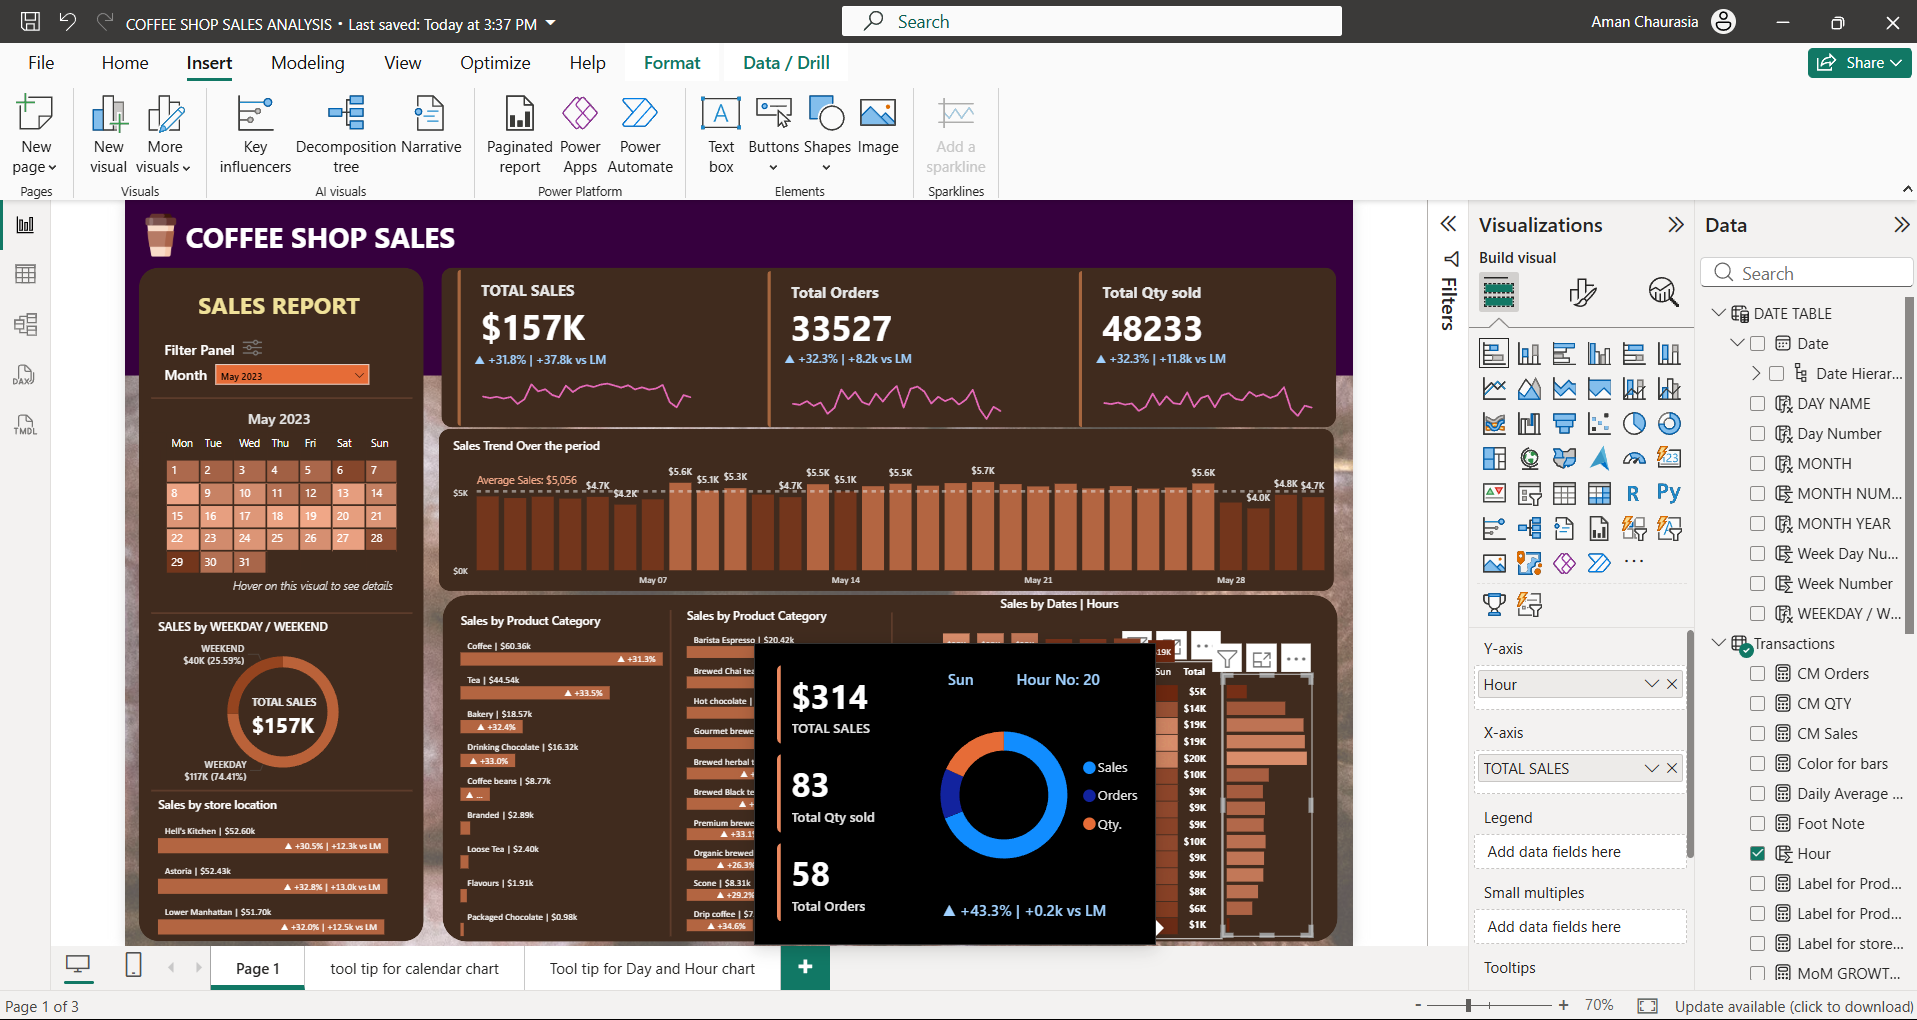

What the dashboard file says about the page in this screenshot:
{"tool":"powerbi","page":{"name":"Page 1","canvas":[1400,850],"ordinal":0},"visuals":[{"type":"shape","box":[0,0,1400.1,200],"z":0},{"type":"shape","box":[15.7,76.9,324.7,767.7],"z":1000},{"type":"shape","box":[360.3,76.9,1019.8,182.3],"z":2000},{"type":"textbox","box":[64.1,15.7,394.5,61.2],"z":3000},{"type":"cardVisual","fields":{"Data":["Transactions.TOTAL SALES"]},"box":[361.8,62.7,297.7,212.2],"z":4000,"group":"g1"},{"type":"cardVisual","fields":{"Data":["Transactions.Total Orders"]},"box":[715.7,64.1,297.7,212.2],"z":4000,"group":"g2"},{"type":"cardVisual","fields":{"Data":["Transactions.Total Qty sold"]},"box":[1069.6,64.1,297.7,212.2],"z":4000,"group":"g3"},{"type":"slicer","fields":{"Values":["DATE TABLE.MONTH YEAR"]},"box":[98.3,182.3,185.2,34.2],"z":4000},{"type":"cardVisual","fields":{"Data":["Transactions.TOTAL SALES"]},"box":[112.5,546.9,133.9,84],"z":5000},{"type":"group","id":"g1","title":"Group 1","box":[361.8,62.7,298,212.2],"z":6000},{"type":"lineChart","fields":{"Category":["DATE TABLE.Date.Variation.Date Hierarchy.Year","DATE TABLE.Date.Variation.Date Hierarchy.Quarter","DATE TABLE.Date.Variation.Date Hierarchy.Month","DATE TABLE.Date.Variation.Date Hierarchy.Day"],"Y":["Transactions.Total Orders"]},"box":[747,170.9,266.3,85.5],"z":6000,"group":"g2"},{"type":"lineChart","fields":{"Category":["DATE TABLE.Date.Variation.Date Hierarchy.Year","DATE TABLE.Date.Variation.Date Hierarchy.Quarter","DATE TABLE.Date.Variation.Date Hierarchy.Month","DATE TABLE.Date.Variation.Date Hierarchy.Day"],"Y":["Transactions.Total Qty sold"]},"box":[1100.9,170.9,266.3,85.5],"z":6000,"group":"g3"},{"type":"lineChart","fields":{"Category":["DATE TABLE.Date.Variation.Date Hierarchy.Year","DATE TABLE.Date.Variation.Date Hierarchy.Quarter","DATE TABLE.Date.Variation.Date Hierarchy.Month","DATE TABLE.Date.Variation.Date Hierarchy.Day"],"Y":["Transactions.TOTAL SALES"]},"box":[393.5,172.8,266.3,85.5],"z":6000,"group":"g1"},{"type":"group","id":"g2","title":"Group 1","box":[715.7,64.1,297.7,212.2],"z":7000},{"type":"group","id":"g3","title":"Group 1","box":[1069.6,64.1,297.7,212.2],"z":8000},{"type":"pivotTable","fields":{"Rows":["DATE TABLE.Week Number"],"Columns":["DATE TABLE.DAY NAME"],"Values":["Min(DATE TABLE.Day Number)"]},"box":[15.7,260.6,304.8,203.7],"z":9000},{"type":"cardVisual","fields":{"Data":["Min(DATE TABLE.MONTH YEAR)"]},"box":[111.2,218.8,131.2,56.2],"z":10000},{"type":"shape","box":[22.5,285,17.5,12.5],"z":11000},{"type":"cardVisual","fields":{"Data":["Transactions.Foot Note"]},"box":[94,411.6,267.8,52.7],"z":12000},{"type":"shape","box":[29.9,464.3,297.7,12.8],"z":13000},{"type":"shape","box":[29.9,219.3,297.7,12.8],"z":14000},{"type":"donutChart","title":"SALES by WEEKDAY / WEEKEND","fields":{"Category":["DATE TABLE.WEEKDAY / WEEKEND"],"Y":["Transactions.TOTAL SALES"]},"box":[32.8,477.1,294.8,195.1],"z":15000},{"type":"clusteredBarChart","title":"Sales by store location ","fields":{"Category":["Transactions.store_location"],"Y":["Transactions.Placeholder","Transactions.TOTAL SALES"]},"box":[32.8,679.4,297.7,165.2],"z":16000},{"type":"shape","box":[29.9,666.6,297.7,12.8],"z":17000},{"type":"shape","box":[357.5,261.2,1020,185],"z":18000},{"type":"shape","box":[361.2,450,1020,395],"z":19000},{"type":"columnChart","title":"Sales Trend Over the period","fields":{"Category":["Transactions.transaction_date"],"Y":["Transactions.TOTAL SALES"]},"box":[368.9,270.6,1007,179.5],"z":20000},{"type":"clusteredBarChart","title":"Sales by Product Category","fields":{"Y":["Transactions.Placeholder","Transactions.TOTAL SALES"],"Category":["Transactions.product_category"]},"box":[377.4,470,269.2,374.6],"z":21000},{"type":"shape","box":[615.3,467.2,12.8,371.7],"z":22000},{"type":"clusteredBarChart","title":"Sales by Product Category","fields":{"Y":["Transactions.Placeholder","Transactions.TOTAL SALES"],"Category":["Transactions.product_type"]},"box":[635.2,464.3,252.1,374.6],"z":23000},{"type":"shape","box":[867.4,470,12.8,371.7],"z":24000},{"type":"pivotTable","fields":{"Rows":["Transactions.Hour"],"Columns":["DATE TABLE.DAY NAME"],"Values":["Transactions.TOTAL SALES"]},"box":[880.2,525.6,370.3,316.2],"z":25000},{"type":"barChart","fields":{"Category":["Transactions.Hour"],"Y":["Transactions.TOTAL SALES"]},"box":[1250,540,103,299],"z":26000},{"type":"columnChart","title":"Sales by Dates | Hours","fields":{"Y":["Transactions.TOTAL SALES"],"Category":["DATE TABLE.DAY NAME"]},"box":[927.5,450,275,82.5],"z":27000},{"type":"textbox","box":[78.3,96.9,199.4,57],"z":28000},{"type":"textbox","box":[39.9,182.3,71.2,35.6],"z":29000},{"type":"textbox","box":[39.9,153.8,126.8,35.6],"z":30000},{"type":"image","box":[133.9,153.8,22.8,28.5],"z":30001},{"type":"image","box":[7.1,15.7,66.9,48.4],"z":30002}]}

Visuals, with their boxes on the page's 1400x850 design canvas (x1, y1, x2, y2). These are canvas units, not pixel positions in the 1917x1020 screenshot, which may show the page scaled, cropped or inside an application window:
shape: box=[0, 0, 1400, 200]
shape: box=[16, 77, 340, 845]
shape: box=[360, 77, 1380, 259]
textbox: box=[64, 16, 459, 77]
cardVisual - Transactions.TOTAL SALES: box=[362, 63, 660, 275]
cardVisual - Transactions.Total Orders: box=[716, 64, 1013, 276]
cardVisual - Transactions.Total Qty sold: box=[1070, 64, 1367, 276]
slicer - DATE TABLE.MONTH YEAR: box=[98, 182, 284, 216]
cardVisual - Transactions.TOTAL SALES: box=[112, 547, 246, 631]
"Group 1" group: box=[362, 63, 660, 275]
lineChart - DATE TABLE.Date.Variation.Date Hierarchy.Year x DATE TABLE.Date.Variation.Date Hierarchy.Quarter: box=[747, 171, 1013, 256]
lineChart - DATE TABLE.Date.Variation.Date Hierarchy.Year x DATE TABLE.Date.Variation.Date Hierarchy.Quarter: box=[1101, 171, 1367, 256]
lineChart - DATE TABLE.Date.Variation.Date Hierarchy.Year x DATE TABLE.Date.Variation.Date Hierarchy.Quarter: box=[394, 173, 660, 258]
"Group 1" group: box=[716, 64, 1013, 276]
"Group 1" group: box=[1070, 64, 1367, 276]
pivotTable - DATE TABLE.Week Number x DATE TABLE.DAY NAME: box=[16, 261, 320, 464]
cardVisual - Min(DATE TABLE.MONTH YEAR): box=[111, 219, 242, 275]
shape: box=[22, 285, 40, 298]
cardVisual - Transactions.Foot Note: box=[94, 412, 362, 464]
shape: box=[30, 464, 328, 477]
shape: box=[30, 219, 328, 232]
"SALES by WEEKDAY / WEEKEND" donutChart: box=[33, 477, 328, 672]
"Sales by store location " clusteredBarChart: box=[33, 679, 330, 845]
shape: box=[30, 667, 328, 679]
shape: box=[358, 261, 1378, 446]
shape: box=[361, 450, 1381, 845]
"Sales Trend Over the period" columnChart: box=[369, 271, 1376, 450]
"Sales by Product Category" clusteredBarChart: box=[377, 470, 647, 845]
shape: box=[615, 467, 628, 839]
"Sales by Product Category" clusteredBarChart: box=[635, 464, 887, 839]
shape: box=[867, 470, 880, 842]
pivotTable - Transactions.Hour x DATE TABLE.DAY NAME: box=[880, 526, 1250, 842]
barChart - Transactions.Hour x Transactions.TOTAL SALES: box=[1250, 540, 1353, 839]
"Sales by Dates | Hours" columnChart: box=[928, 450, 1202, 532]
textbox: box=[78, 97, 278, 154]
textbox: box=[40, 182, 111, 218]
textbox: box=[40, 154, 167, 189]
image: box=[134, 154, 157, 182]
image: box=[7, 16, 74, 64]
